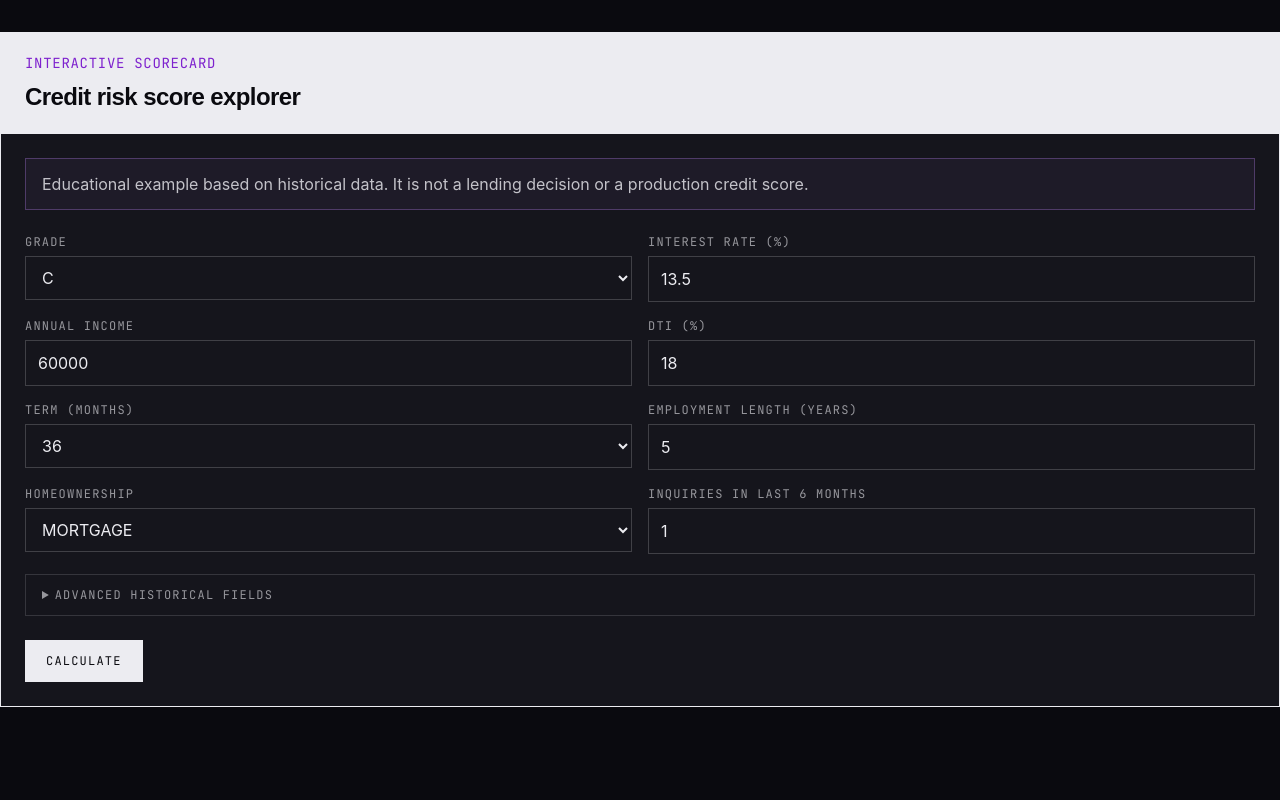
Test: describes validation errors through the invalid field
Replace the text in the number field labelled "Interest rate (%)" with "-1" at (952, 279), box left=648, top=256, right=1255, bottom=302
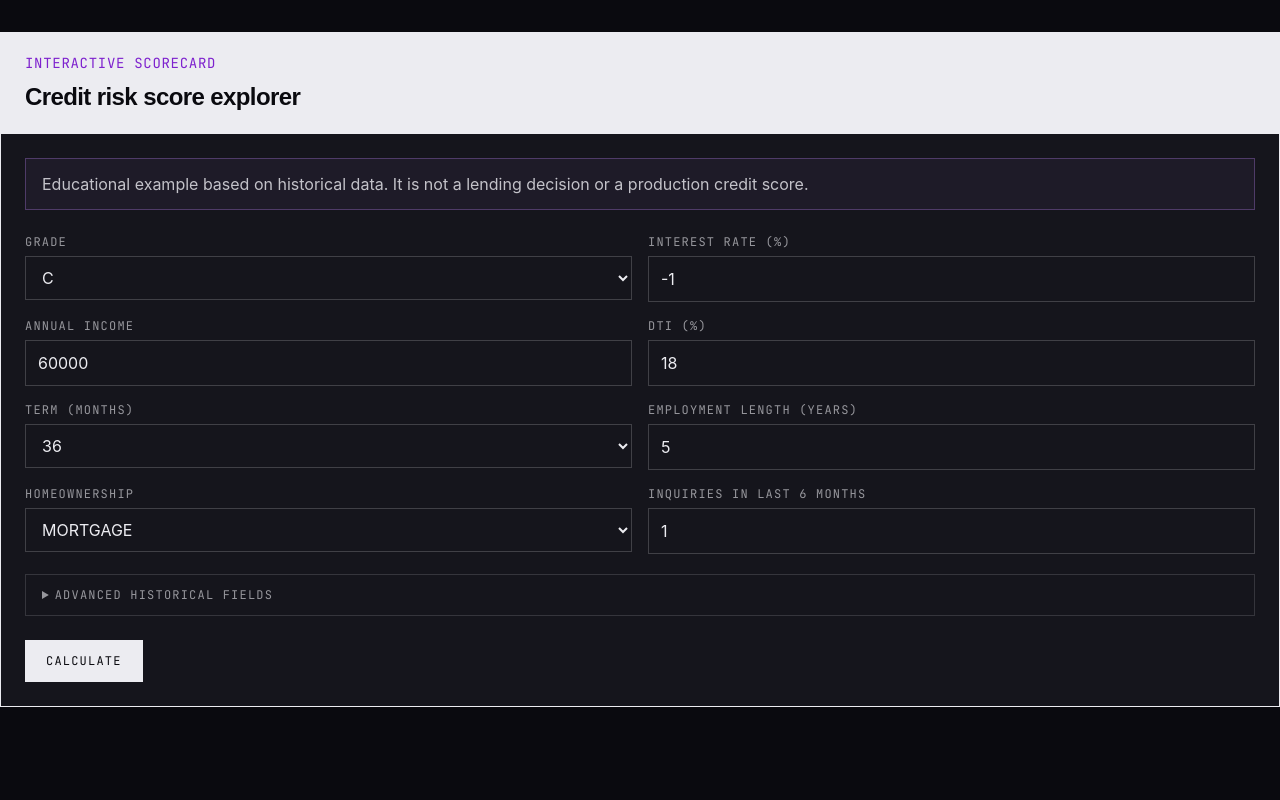
Click the button "Calculate" at (84, 661), box left=25, top=640, right=143, bottom=682
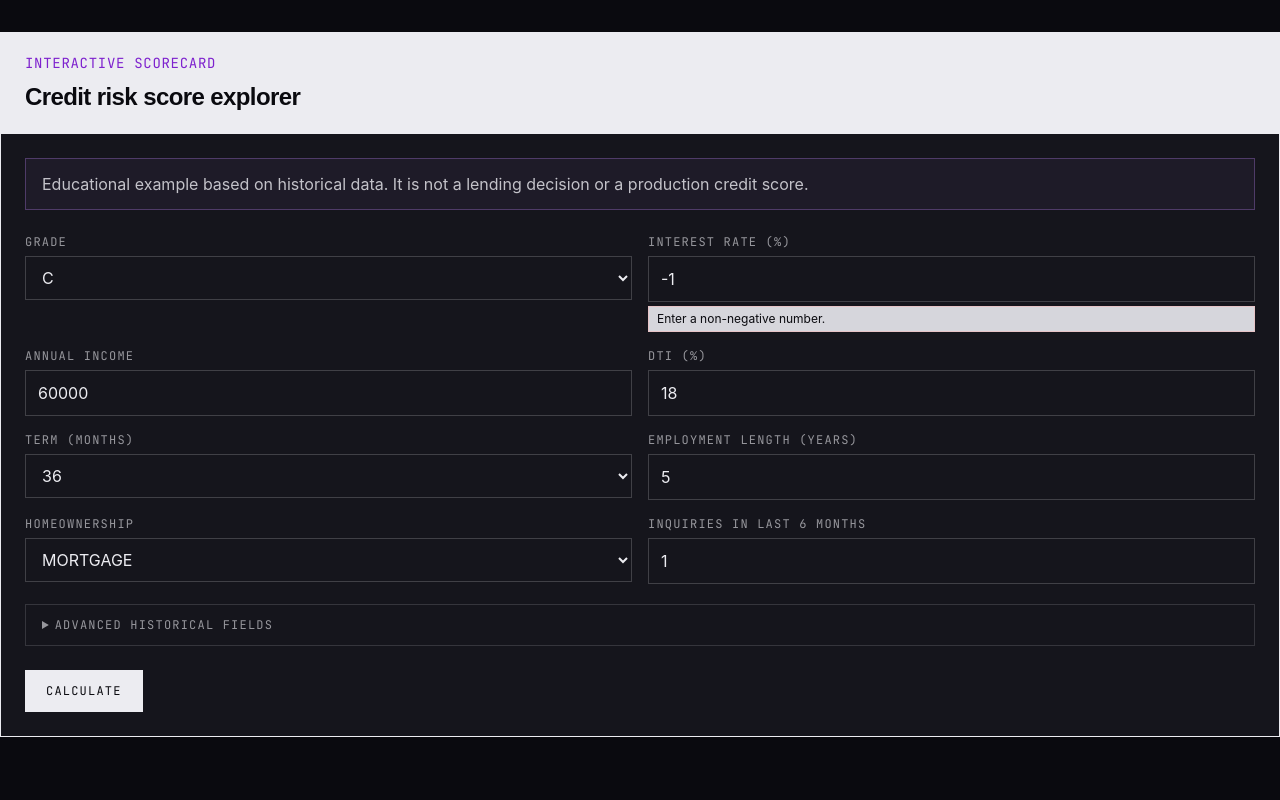
Check: the text with id "credit-risk-interestRate-error" reads "Enter a non-negative number.", box left=657, top=311, right=825, bottom=326
